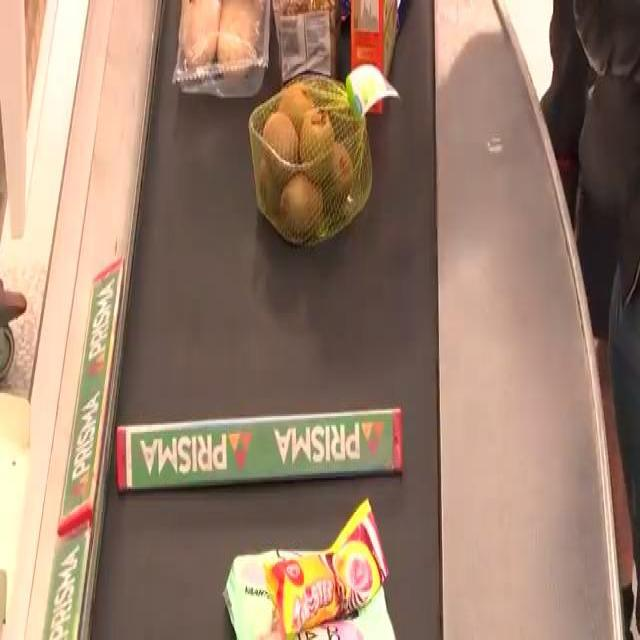food-box: (224, 521, 413, 640), (270, 518, 385, 622), (179, 0, 272, 108), (276, 0, 341, 91), (351, 0, 400, 103)
fruit: (256, 78, 371, 230)
